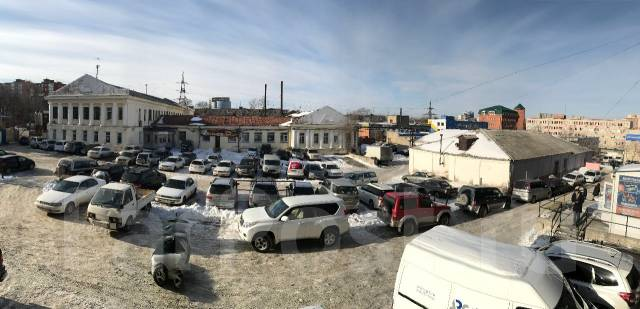Car: (391, 224, 598, 309), (540, 240, 640, 309), (238, 194, 350, 252), (86, 182, 155, 231), (376, 192, 454, 235), (35, 175, 106, 215), (455, 185, 511, 217), (315, 179, 360, 212), (119, 165, 167, 192), (155, 175, 197, 205), (206, 177, 238, 209), (358, 183, 396, 209), (53, 157, 97, 179), (414, 178, 459, 199), (513, 179, 552, 203), (249, 176, 279, 207), (402, 170, 453, 186), (91, 163, 131, 182), (0, 154, 36, 174), (337, 170, 378, 187), (388, 182, 431, 198), (234, 158, 260, 178), (262, 154, 283, 178), (212, 160, 238, 177), (159, 155, 185, 172), (286, 181, 315, 196), (115, 151, 144, 166), (561, 171, 585, 188), (320, 161, 344, 177), (189, 158, 212, 174), (286, 159, 304, 179), (136, 151, 160, 166), (87, 146, 114, 159), (64, 140, 87, 154), (305, 163, 325, 179), (0, 246, 8, 283), (181, 151, 198, 166), (80, 143, 103, 154), (120, 144, 142, 155), (207, 152, 223, 167), (584, 170, 602, 183), (305, 147, 321, 160), (31, 137, 49, 148), (40, 139, 57, 150), (180, 140, 194, 153), (54, 139, 69, 151), (247, 144, 258, 158), (291, 150, 305, 160), (297, 304, 323, 309)
